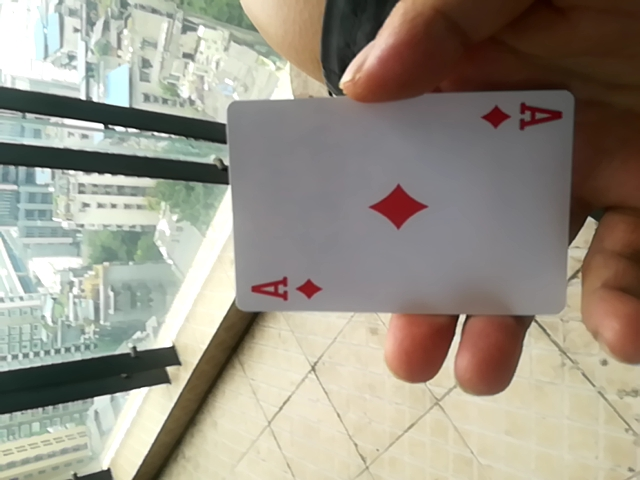fk a: (227, 85, 581, 323)
